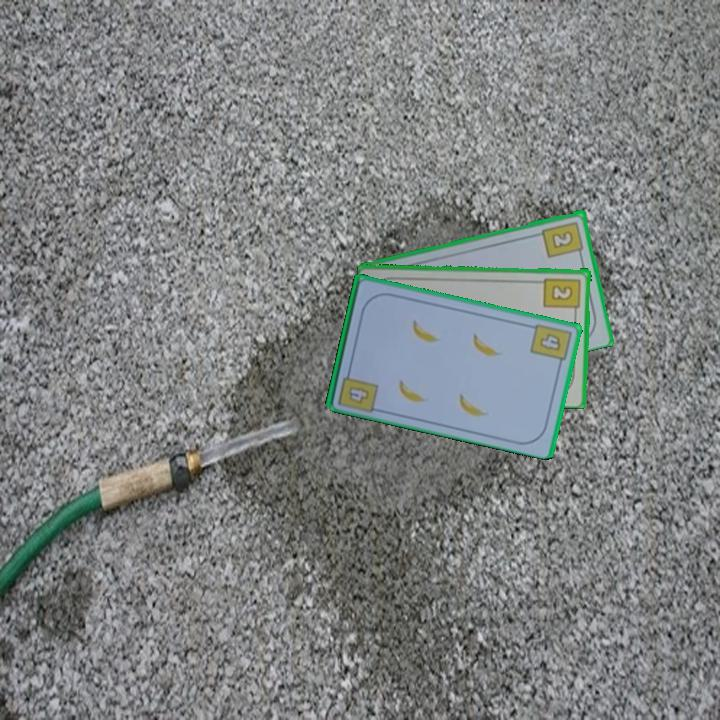2b: (539, 218, 587, 260), (541, 274, 583, 317)
4b: (527, 320, 574, 369), (345, 382, 372, 406)
